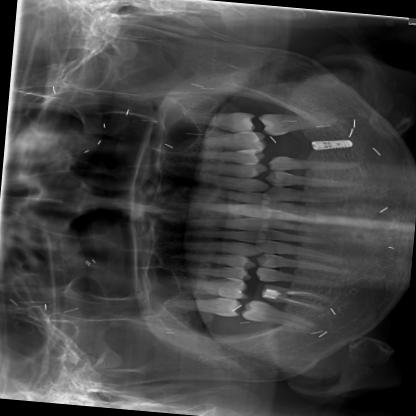ITI: (308, 136, 354, 152)
